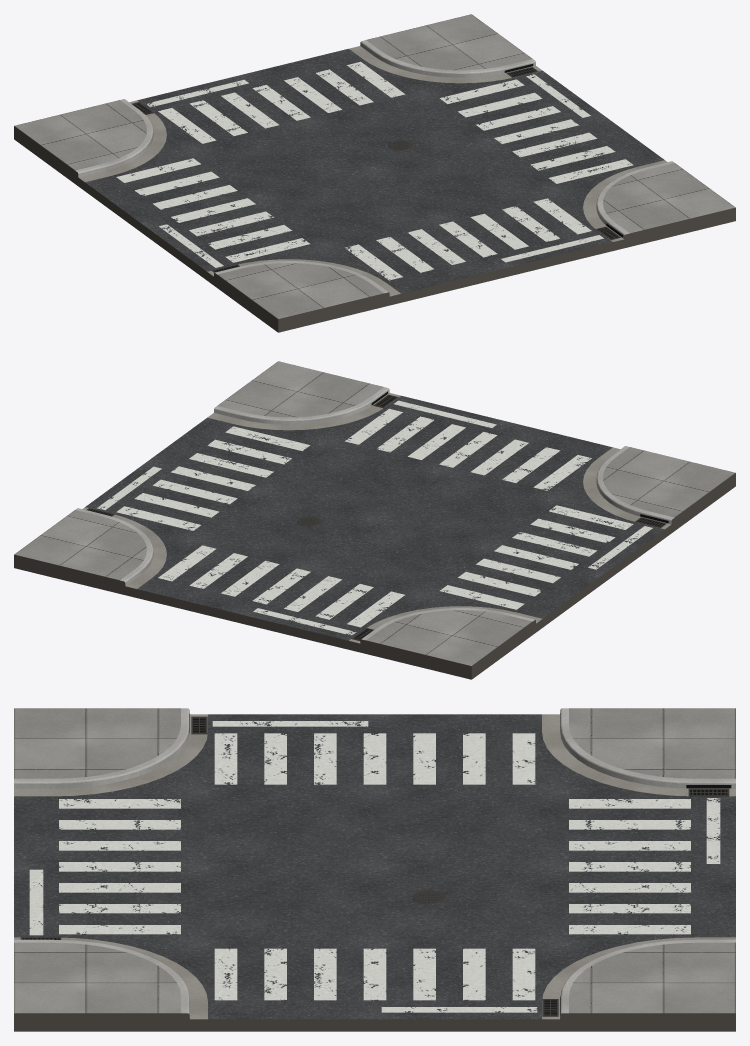
Rendered from road-crossroads.glb.
The picture shows the model from 3 angles, top to bottom: view 1: azimuth 30°, elevation 25°; view 2: azimuth 150°, elevation 25°; view 3: azimuth 270°, elevation 25°; orthographic projection. The views are drawn at different scales.
Parts seen in each view (by area): view 1: Road_Crossroads; view 2: Road_Crossroads; view 3: Road_Crossroads.
Part boxes in pixels (box(x1,y1,x2,y2)): Road_Crossroads: box(14, 14, 735, 332); Road_Crossroads: box(14, 361, 735, 679); Road_Crossroads: box(14, 708, 735, 1031).
Bounding box in the file's own units: 16 × 0.45 × 16.
Materials: 8 (5 with a texture image).
